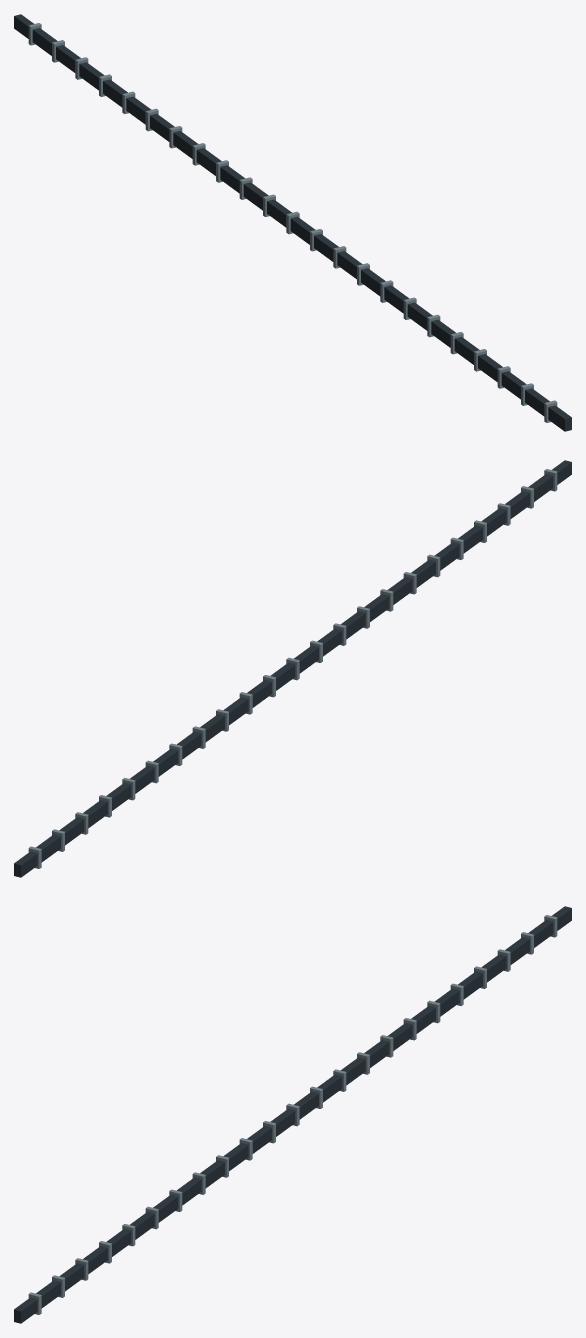
File: SM_Lab_CeilingBeam.fbx
The picture shows the model from 3 angles, top to bottom: view 1: azimuth 30°, elevation 25°; view 2: azimuth 150°, elevation 25°; view 3: azimuth 330°, elevation 25°; orthographic projection.
Visible parts, largest first — view 1: SM_Lab_CeilingBeam; view 2: SM_Lab_CeilingBeam; view 3: SM_Lab_CeilingBeam.
Part boxes in pixels (x1,y1,x2,y2): SM_Lab_CeilingBeam: (14, 14, 571, 431); SM_Lab_CeilingBeam: (14, 460, 571, 877); SM_Lab_CeilingBeam: (14, 906, 571, 1323).
Size of the model in its own units: 27 by 2350 by 44.
